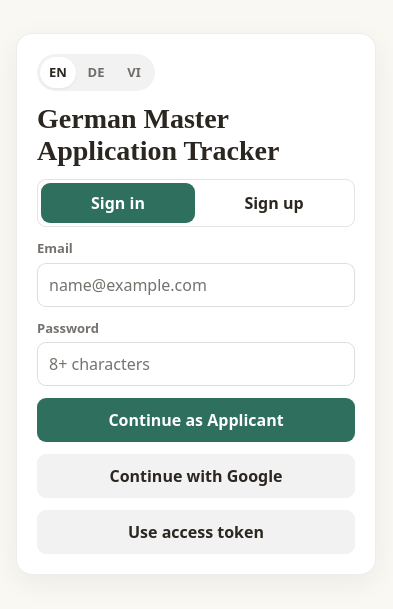
it: requires a password before applicant sign-in
Type "applicant@example.com" into the field labelled "Email" at x=196, y=285, box [37,263,355,307]
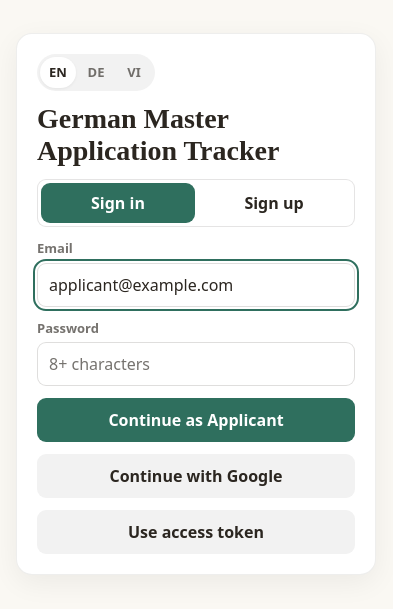
Click the button "Continue as Applicant" at x=196, y=420, box [37,398,355,442]
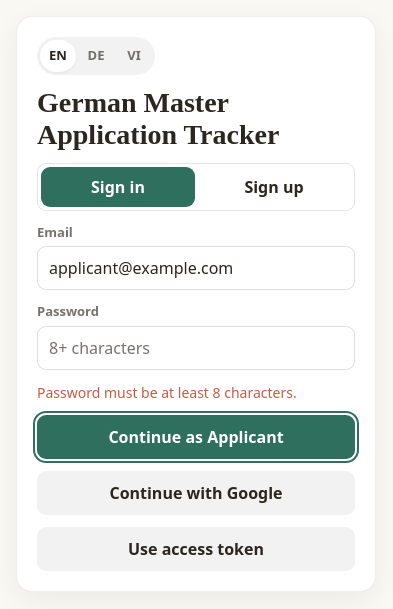
Expected: the text "Password must be at least 8 characters." is shown, [37,383,297,402]
